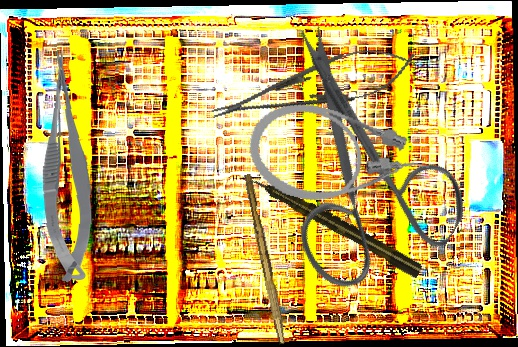Cannula: (239, 92, 437, 227)
Handpiece: (245, 170, 425, 280)
Iris Scissors: (199, 18, 510, 324)
Micro Scissor: (37, 49, 100, 283)
Needle Holder: (204, 34, 422, 138)
Scalpel Handle: (240, 173, 291, 345)
